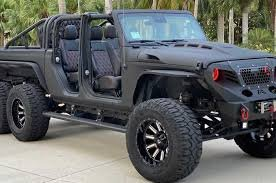mobil: (2, 1, 274, 177)
